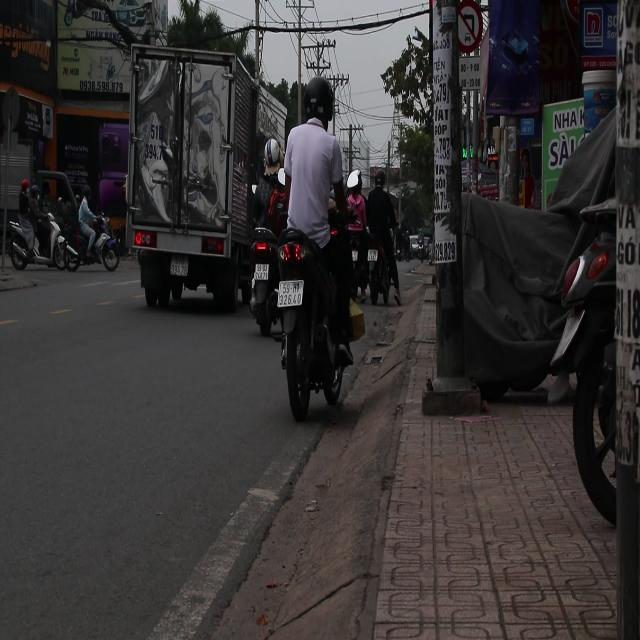motorbike: (273, 227, 351, 419), (249, 226, 288, 337), (8, 214, 80, 273), (80, 207, 122, 271)
truck: (126, 39, 287, 314)
